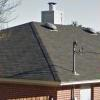Chimney: (38, 2, 67, 32)
